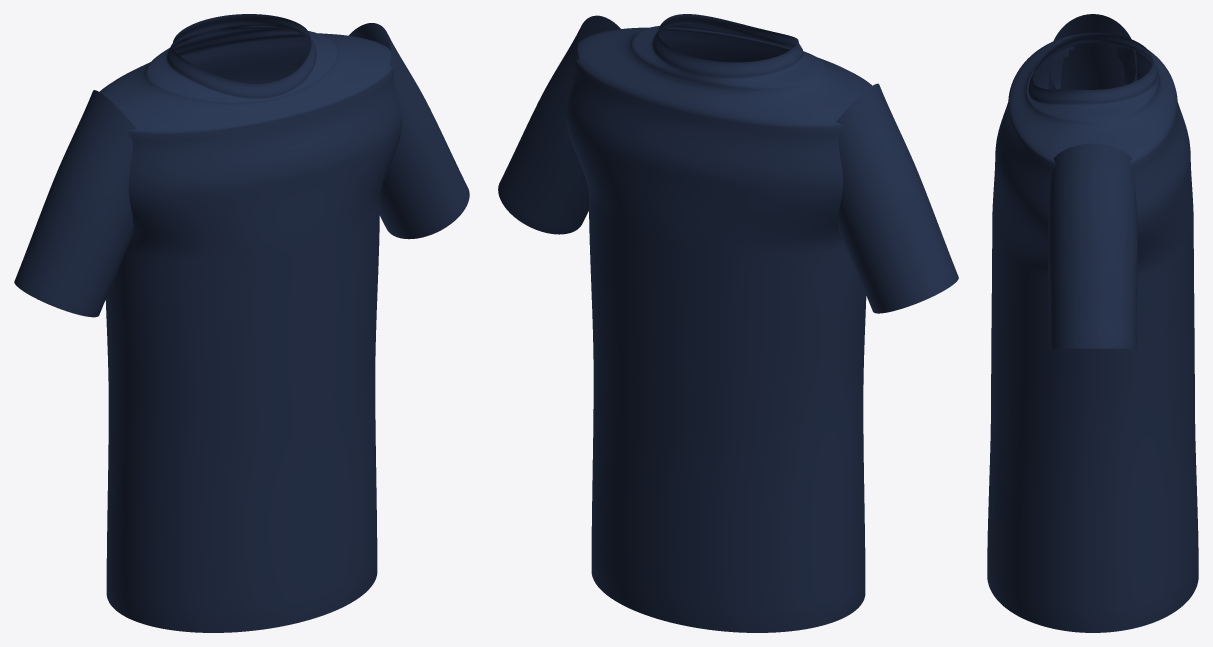
File: demo-relaxed-tee--navy--xs.r2.glb
3 renders of one model, left to right at view 1: azimuth 30°, elevation 25°; view 2: azimuth 150°, elevation 25°; view 3: azimuth 270°, elevation 25°, orthographic. The views are drawn at different scales.
Parts seen in each view (by area): view 1: demo-relaxed-tee--navy--xs; view 2: demo-relaxed-tee--navy--xs; view 3: demo-relaxed-tee--navy--xs.
Part boxes in pixels (bbox=[...]): demo-relaxed-tee--navy--xs: bbox=[14, 14, 469, 632]; demo-relaxed-tee--navy--xs: bbox=[498, 14, 958, 632]; demo-relaxed-tee--navy--xs: bbox=[987, 14, 1198, 632].
Size of the model in its own units: 0.5868 by 0.686 by 0.2557.
